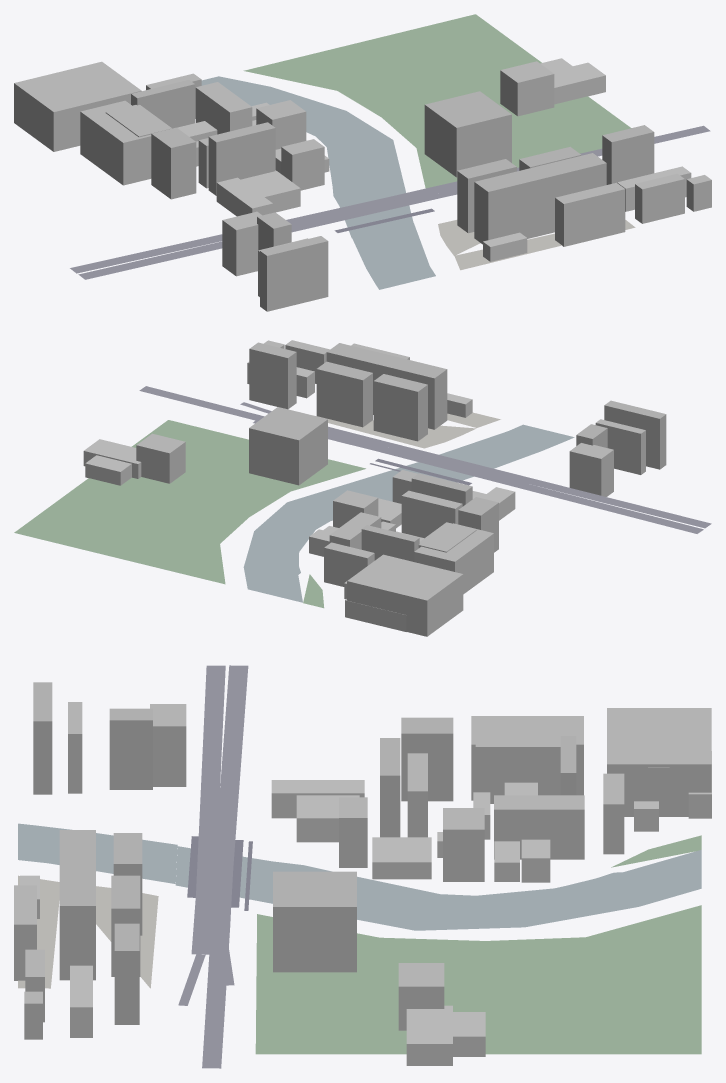
The model's file is 123_92_mid.glb.
3 views of the same model, one above another, from view 1: azimuth 30°, elevation 25°; view 2: azimuth 150°, elevation 25°; view 3: azimuth 270°, elevation 25° (orthographic). The views are drawn at different scales.
Size of the model in its own units: 693 by 61.28 by 511.
